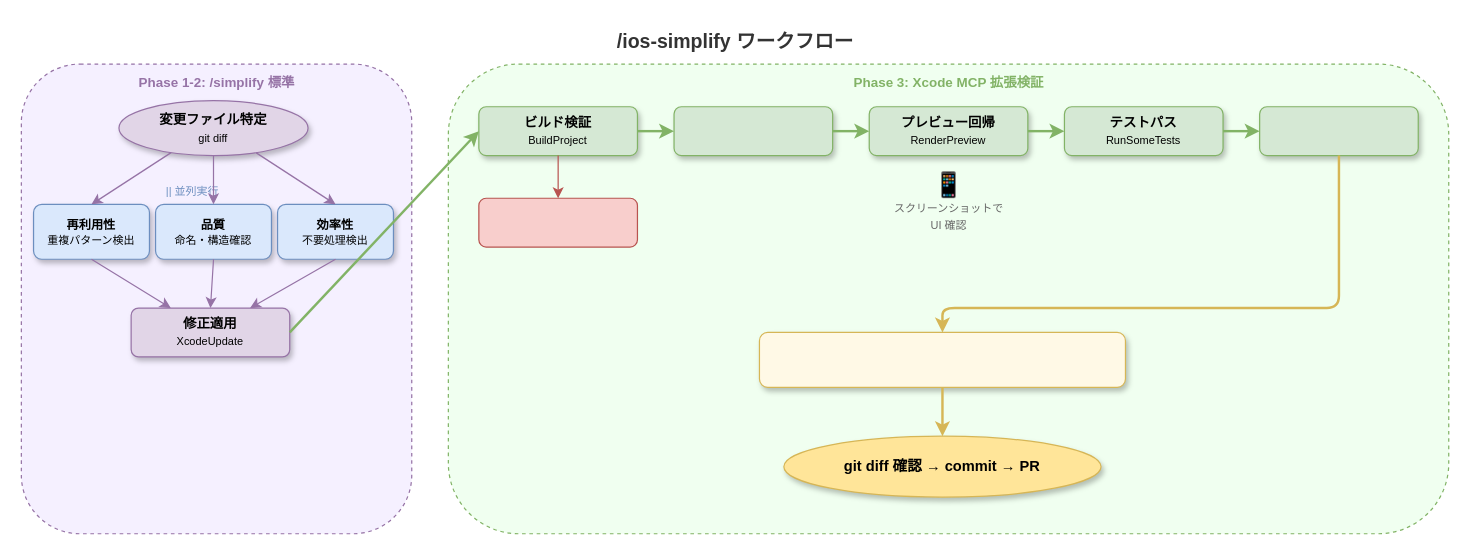
Image size: 1470x555. Some labels were removed from this diagram. The centre of each missing label's shape, as x and y in pixels:
"API 最新性 DocSearch" goes at pixel 1340 132.
"Fail → GetBuildLog で修正 → 再ビルド" goes at pixel 557 222.
"レポート出力 再利用性 / 品質 / 効率性 / ビルド / 警告 / プレビュー / テスト / API" goes at pixel 943 361.
"警告チェック ListNavigatorIssues" goes at pixel 754 132.
